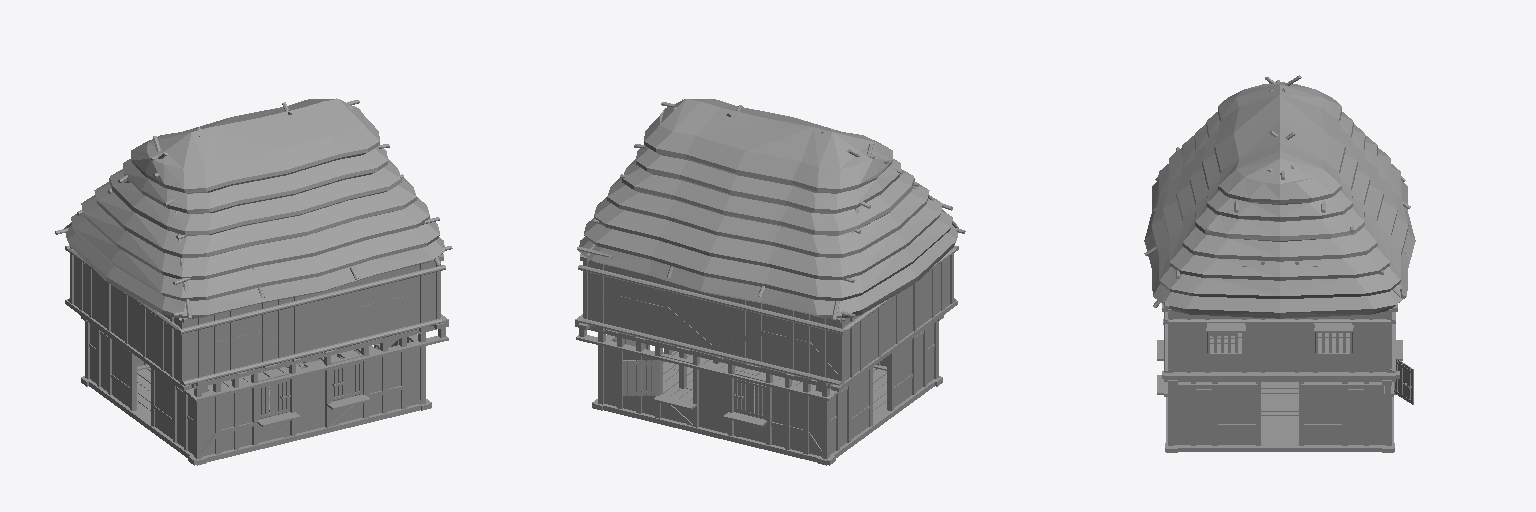
Rendered from -LOD1_t_hut_003.obj.
3 views of the same model, side by side, from view 1: azimuth 30°, elevation 25°; view 2: azimuth 150°, elevation 25°; view 3: azimuth 270°, elevation 25° (orthographic).
Parts seen in each view (by area): view 1: thatch_transparency_bc.008_thatch_transparency_bc.011, Cube.000_Cube.004; view 2: thatch_transparency_bc.008_thatch_transparency_bc.011, Cube.000_Cube.004; view 3: thatch_transparency_bc.008_thatch_transparency_bc.011, Cube.000_Cube.004.
Part boxes in pixels (x1,y1,x2,y2): thatch_transparency_bc.008_thatch_transparency_bc.011: (66, 99, 444, 317); Cube.000_Cube.004: (55, 98, 452, 465); thatch_transparency_bc.008_thatch_transparency_bc.011: (579, 99, 957, 317); Cube.000_Cube.004: (575, 99, 965, 465); thatch_transparency_bc.008_thatch_transparency_bc.011: (1144, 82, 1415, 318); Cube.000_Cube.004: (1144, 75, 1413, 452).
Size of the model in its own units: 15.5 by 13.92 by 12.17.